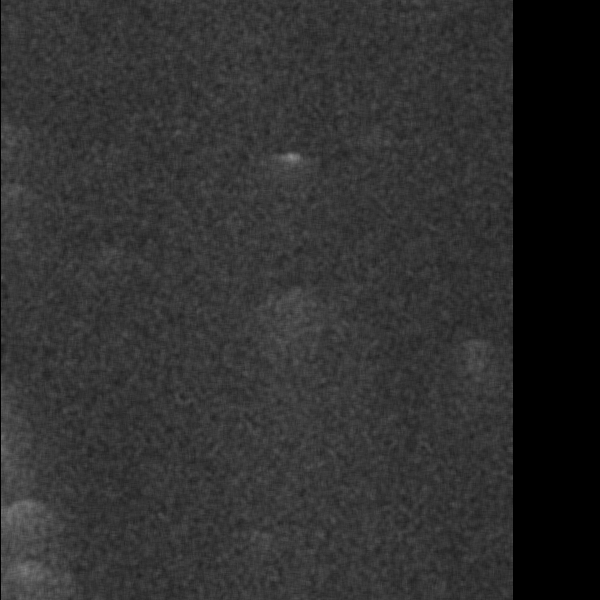spark: (61, 74, 133, 133), (311, 158, 357, 205)
